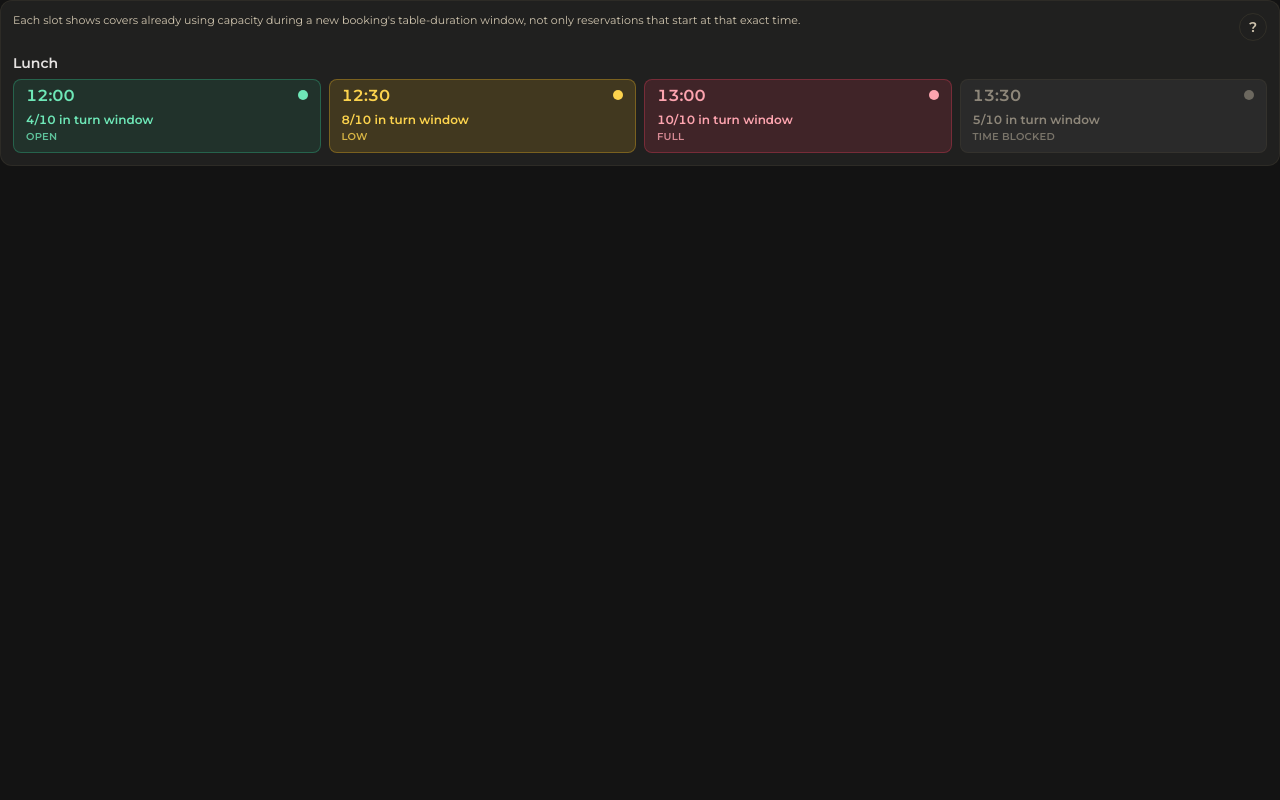
Test: DayOccupancy › closes the slot actions modal with Escape
Click the button "12:00 4/10 in turn window Open" at (50, 96), box top-left (13, 79), bottom-right (320, 152)
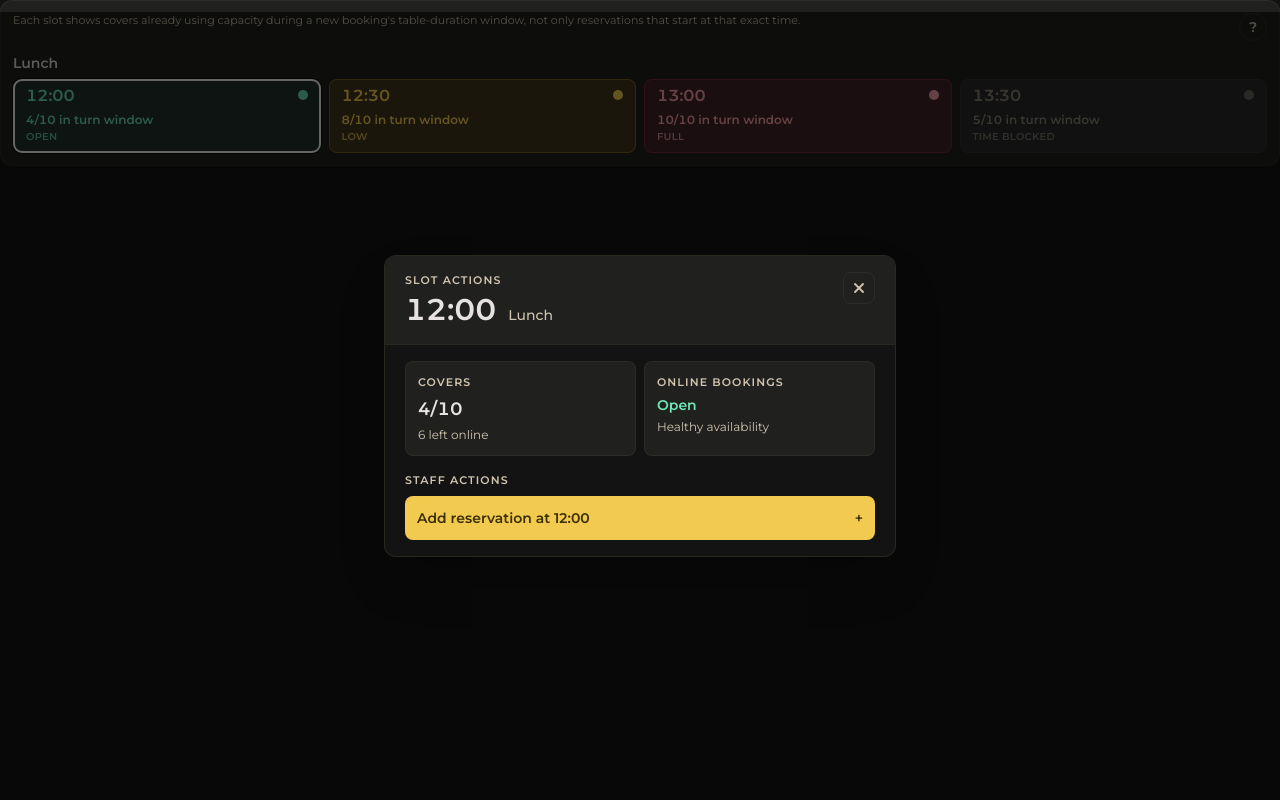
Expected: the dialog "Slot actions" is shown
Press Escape
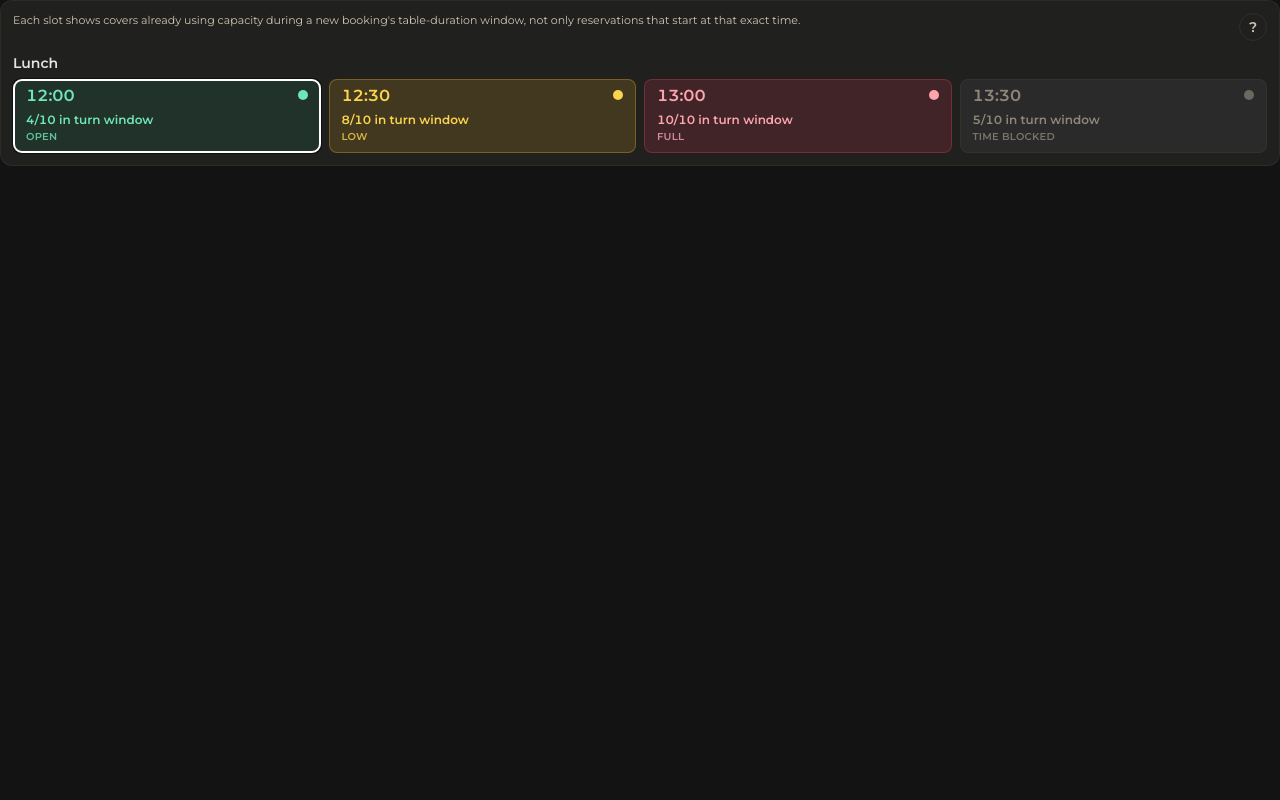
Expected: the text "Slot actions" is gone
